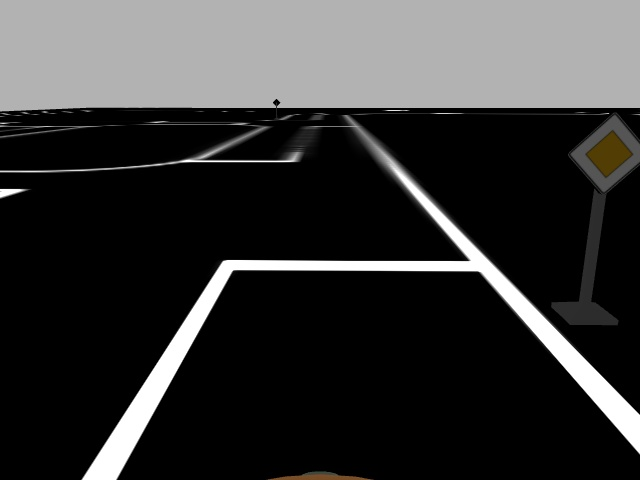priority: (567, 113, 640, 195)
